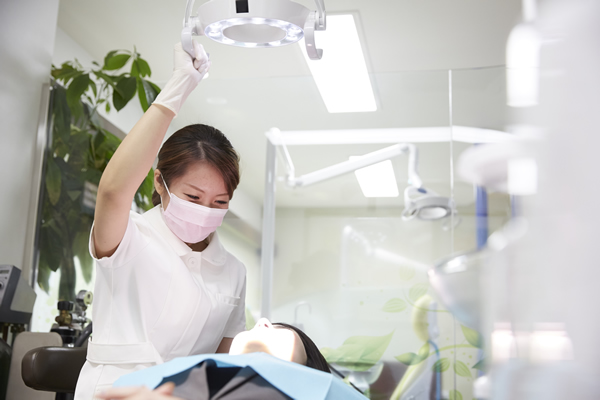mask: (160, 196, 228, 242)
